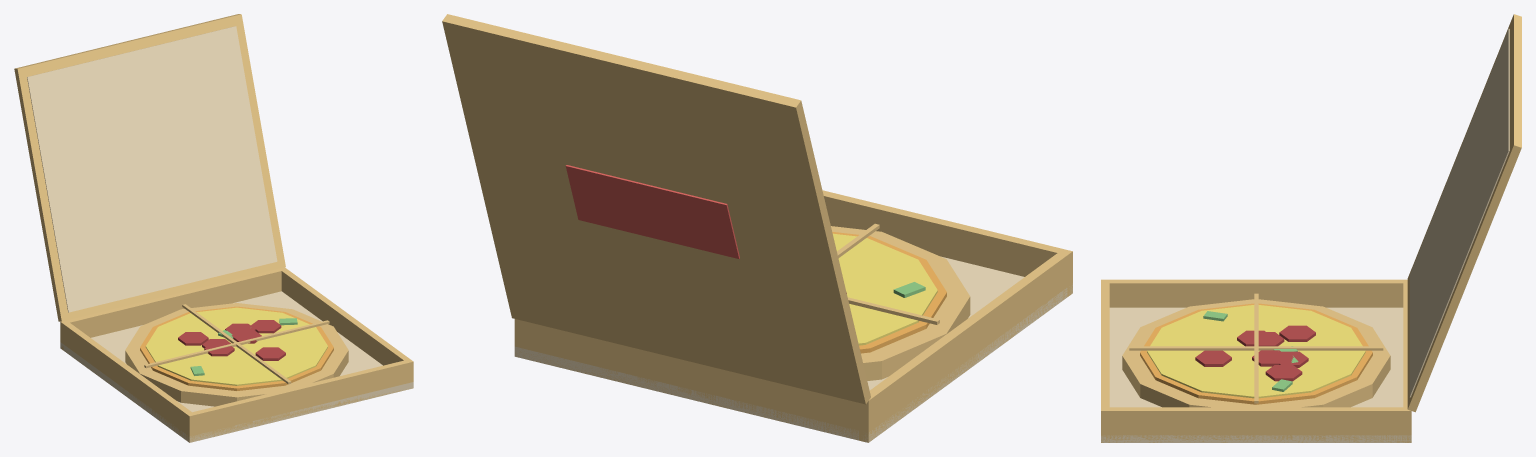
The model's file is prop_pizza_box_01.glb.
3 views of the same model, side by side, from view 1: azimuth 30°, elevation 25°; view 2: azimuth 150°, elevation 25°; view 3: azimuth 270°, elevation 25° (orthographic). The views are drawn at different scales.
Parts seen in each view (by area): view 1: prop_pizza_box_01_body; view 2: prop_pizza_box_01_body; view 3: prop_pizza_box_01_body.
Part boxes in pixels (<box>): prop_pizza_box_01_body: <box>14,14,413,442</box>; prop_pizza_box_01_body: <box>442,14,1072,442</box>; prop_pizza_box_01_body: <box>1101,14,1521,442</box>.
Size of the model in its own units: 0.44 by 0.4655 by 0.5961.
